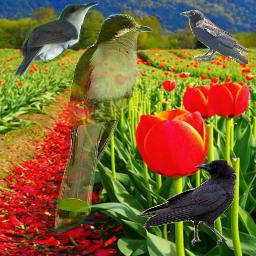Crow: (135, 159, 238, 247), (180, 10, 248, 64)
Cuckoo: (54, 14, 153, 235), (13, 1, 100, 79)
